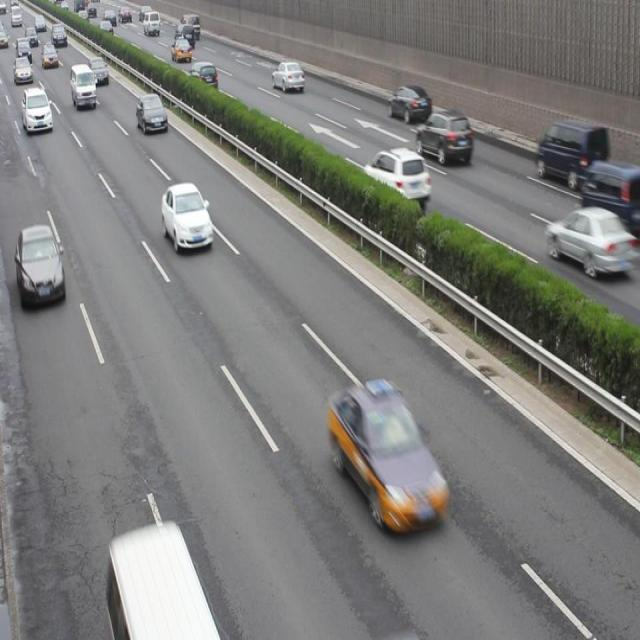car: (329, 381, 451, 533), (544, 208, 627, 278), (16, 226, 67, 306), (579, 160, 640, 225), (362, 146, 430, 204), (162, 181, 214, 253), (415, 108, 471, 166), (387, 86, 431, 124), (22, 86, 54, 134), (136, 94, 168, 134), (271, 61, 305, 94), (187, 63, 218, 92), (171, 37, 192, 63), (14, 56, 33, 84), (89, 58, 109, 84), (42, 40, 59, 68), (16, 38, 33, 64)
truck: (108, 526, 220, 640), (536, 120, 607, 188), (70, 64, 97, 110), (174, 23, 195, 48), (180, 13, 200, 39), (143, 11, 161, 36)
